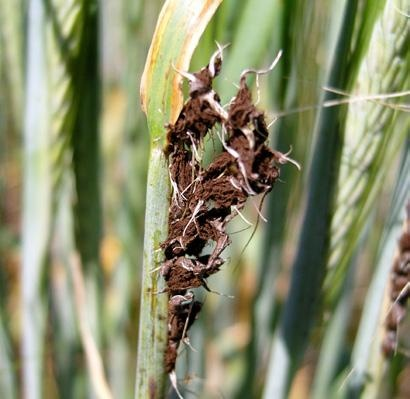Wheat Loose Smut: (159, 59, 288, 342)
